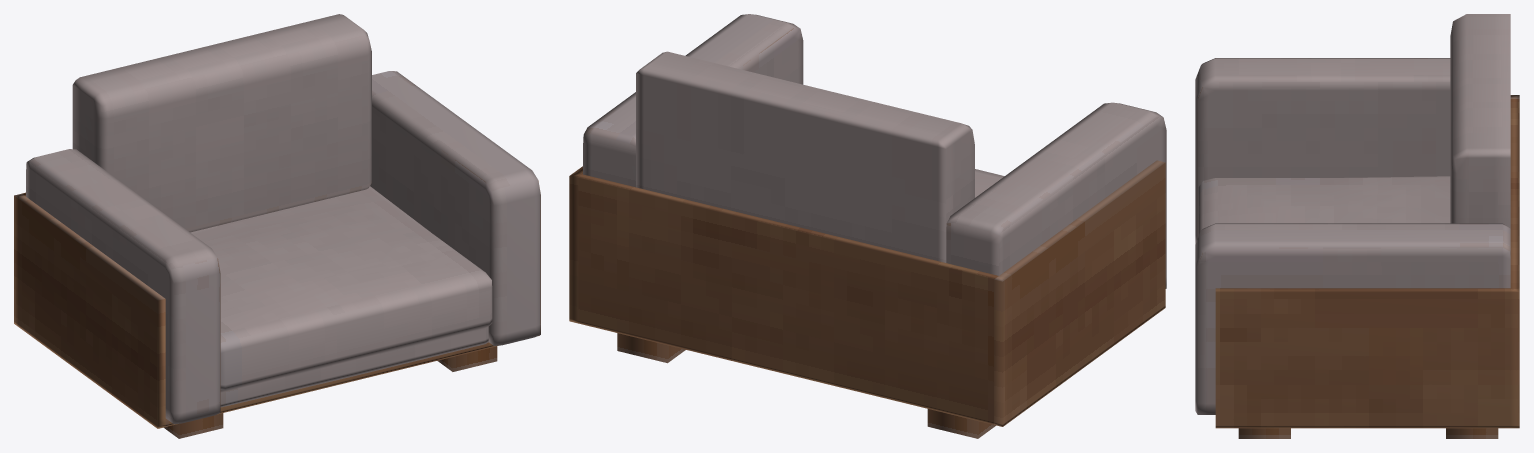
File: a_com_building_b01_sofa02.gltf
3 views of the same model, side by side, from view 1: azimuth 30°, elevation 25°; view 2: azimuth 150°, elevation 25°; view 3: azimuth 270°, elevation 25° (orthographic). The views are drawn at different scales.
Parts seen in each view (by area): view 1: a_com_building_b01_sofa02_mesh_shape:a_com_building_b01_sofa; view 2: a_com_building_b01_sofa02_mesh_shape:a_com_building_b01_sofa; view 3: a_com_building_b01_sofa02_mesh_shape:a_com_building_b01_sofa.
Boxes of the visible parts, left/top/right/bottom form: a_com_building_b01_sofa02_mesh_shape:a_com_building_b01_sofa: left=14, top=14, right=540, bottom=438; a_com_building_b01_sofa02_mesh_shape:a_com_building_b01_sofa: left=569, top=14, right=1166, bottom=438; a_com_building_b01_sofa02_mesh_shape:a_com_building_b01_sofa: left=1195, top=14, right=1519, bottom=438.
Size of the model in its own units: 1.29 by 0.8424 by 0.8989.
1 material, 1 textured.
